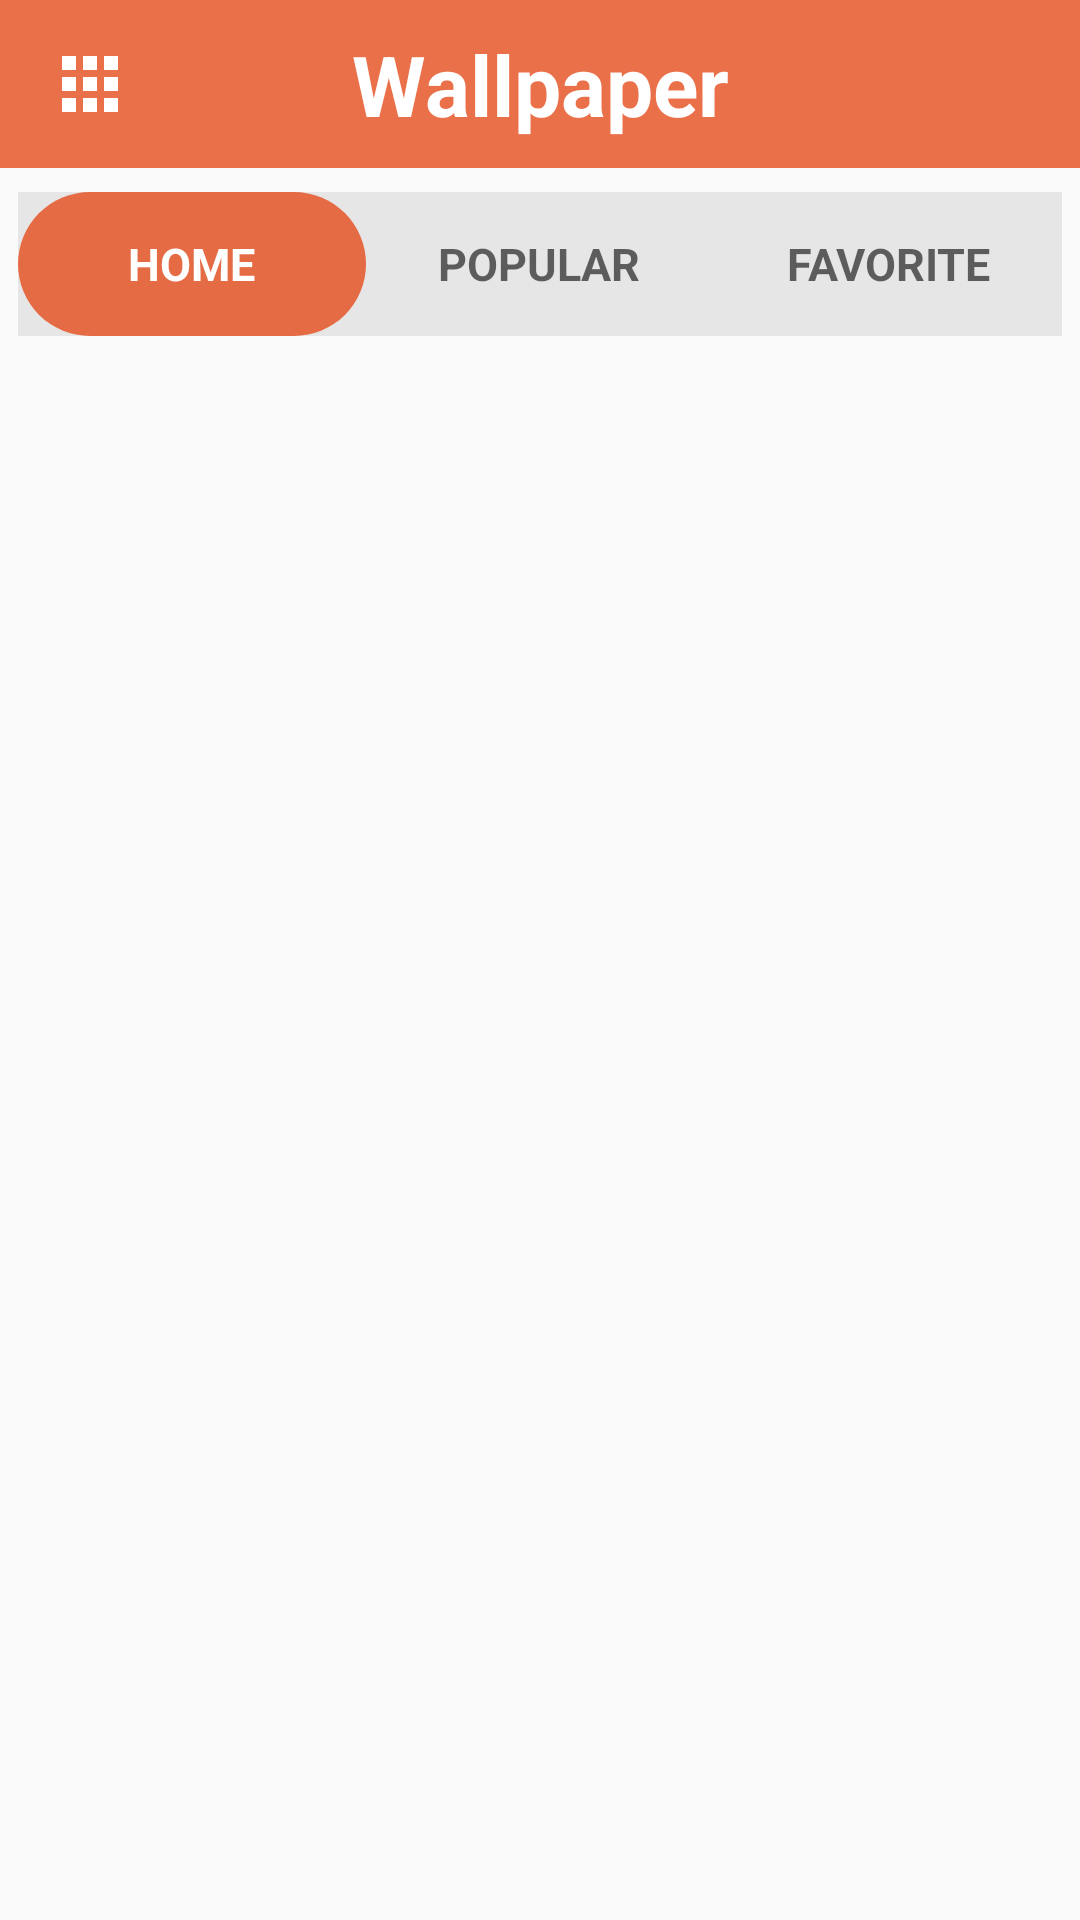

Icons on this 1080×1920 Android screen, each with the point to tap as point (x, y):
menu: point (90, 84)
